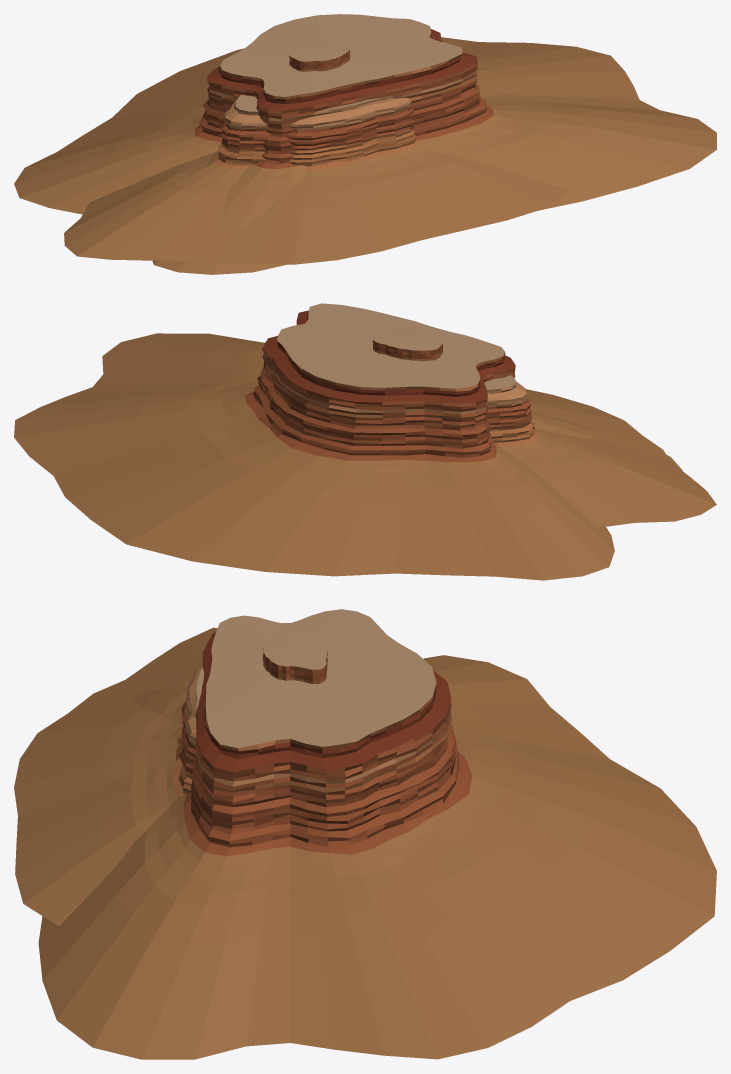
The model's file is props_canyon.glb.
3 views of the same model, one above another, from view 1: azimuth 30°, elevation 25°; view 2: azimuth 150°, elevation 25°; view 3: azimuth 270°, elevation 25° (orthographic). The views are drawn at different scales.
Parts seen in each view (by area): view 1: mesa, mesa_b, butte; view 2: mesa, mesa_b, butte; view 3: mesa, mesa_b, butte.
Boxes of the visible parts, <box> form: mesa: <box>14,14,716,274</box>; mesa_b: <box>64,95,566,264</box>; butte: <box>289,37,350,71</box>; mesa: <box>14,303,682,580</box>; mesa_b: <box>484,375,716,526</box>; butte: <box>373,329,442,361</box>; mesa: <box>38,609,716,1059</box>; mesa_b: <box>14,627,217,925</box>; butte: <box>262,630,327,684</box>.
Size of the model in its own units: 573 by 125 by 404.
